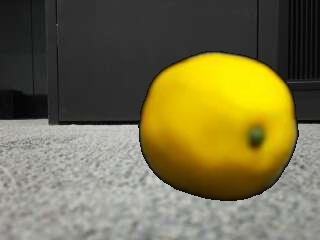lemon: (139, 52, 298, 200)
